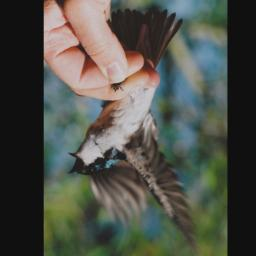Swallow: (65, 7, 207, 256)
